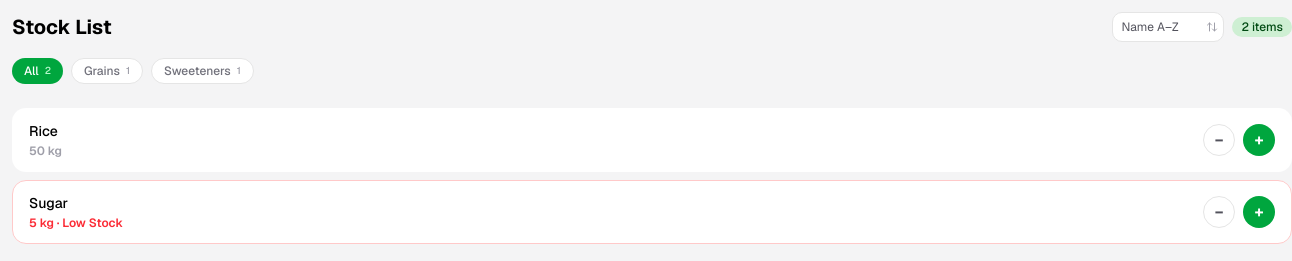
Scenario: HomeClient CRUD Operations › Category Filtering › filters products by specific category
Click the button "Grains 1" at {"x": 107, "y": 71}, box [71,58,143,84]
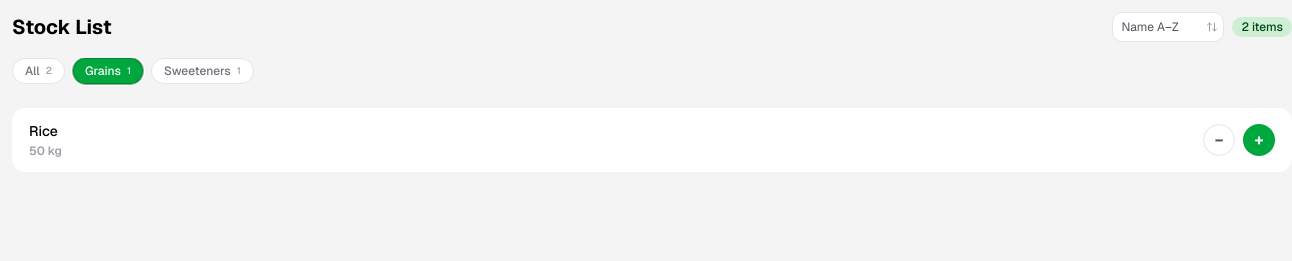
Expected: the text "Rice" is shown, [29,121,62,141]
Now the text "Sugar" is gone
